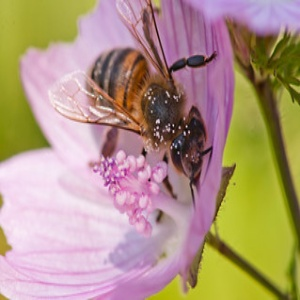bee: (48, 1, 230, 212)
